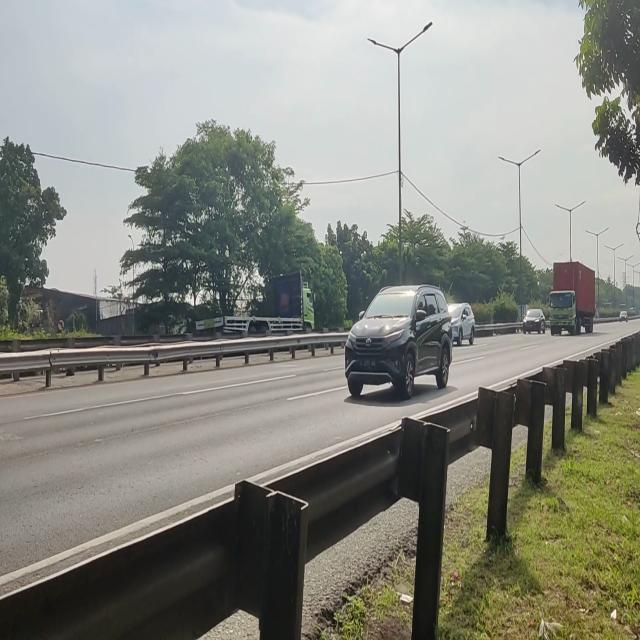Golongan I: (342, 276, 455, 408)
